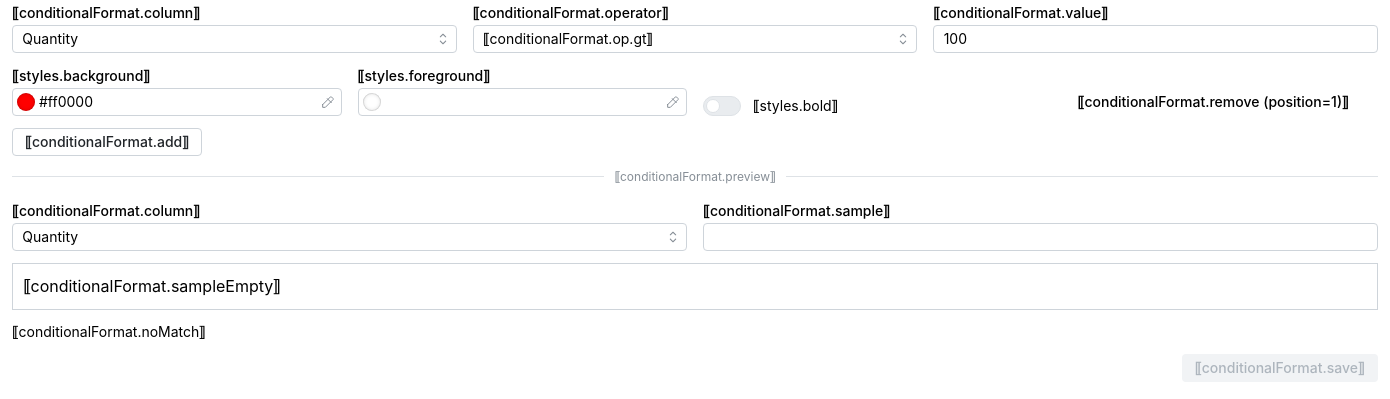
it: ConditionalFormatPanel › незмінений набір не зберігається; змінений — з If-Match версії читання, і правила інших таблиць їдуть назад
Expected: the button "⟦conditionalFormat.save⟧" is disabled, [1182, 354, 1378, 382]
Replace the text in the field labelled "⟦conditionalFormat.value⟧" with "200": (1156, 39) [933, 25, 1378, 53]
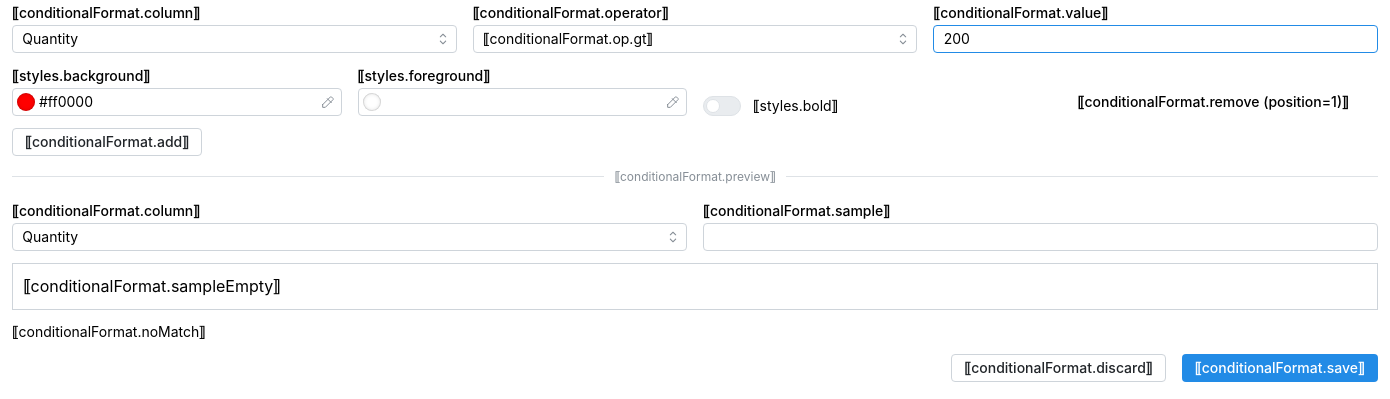
Click the button "⟦conditionalFormat.save⟧": (1280, 368) [1182, 354, 1378, 382]
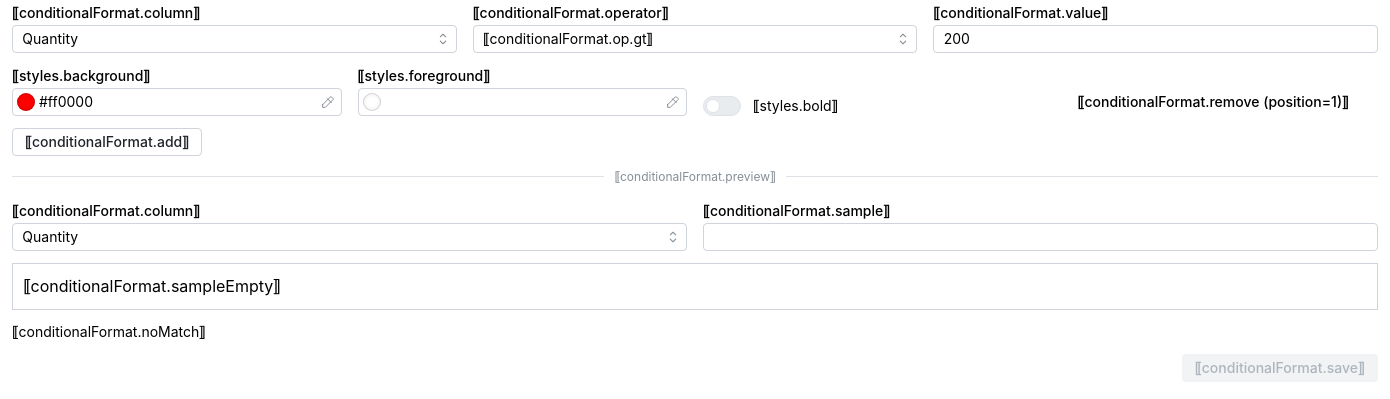
Expected: the button "⟦conditionalFormat.save⟧" is disabled, [1182, 354, 1378, 382]
